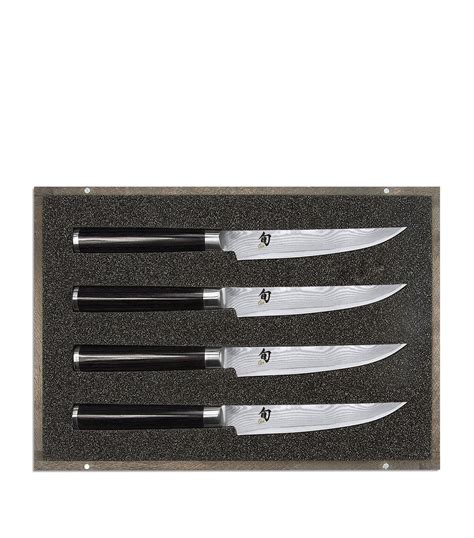knife: (73, 342, 412, 383), (70, 223, 410, 262), (68, 282, 408, 320), (72, 401, 412, 439)
